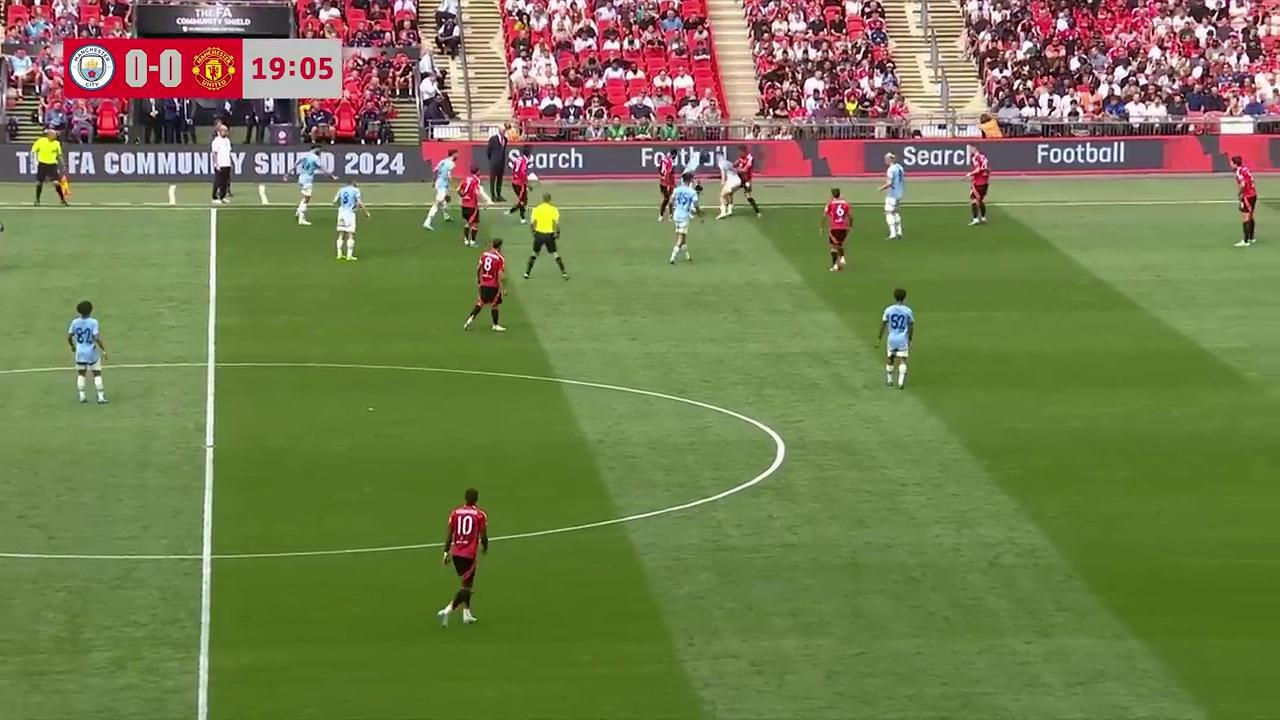player: (437, 489, 488, 629), (462, 239, 508, 332), (67, 302, 108, 404), (877, 287, 914, 388), (332, 178, 370, 260), (819, 189, 852, 272), (295, 146, 330, 224), (728, 142, 761, 218), (667, 183, 693, 264), (716, 160, 751, 219), (423, 166, 454, 231), (507, 146, 532, 222), (1235, 164, 1257, 246), (880, 166, 904, 240), (459, 176, 481, 247), (968, 154, 990, 225), (658, 150, 679, 221), (667, 183, 693, 235), (687, 179, 703, 220)
referee: (523, 195, 569, 280), (30, 127, 70, 207)
